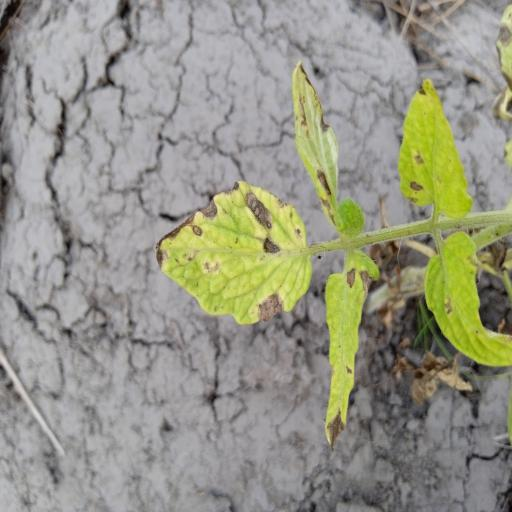Tomato_Brown_Spots: (150, 179, 316, 328), (422, 230, 512, 372), (396, 72, 476, 224), (288, 54, 344, 228), (323, 250, 367, 458)
